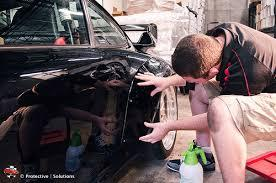Door: (81, 48, 144, 144)
